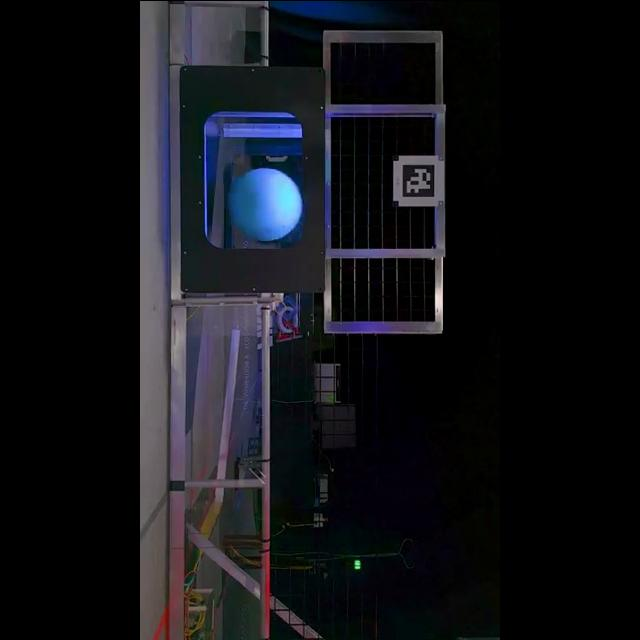ALGAE: (228, 165, 304, 242)
